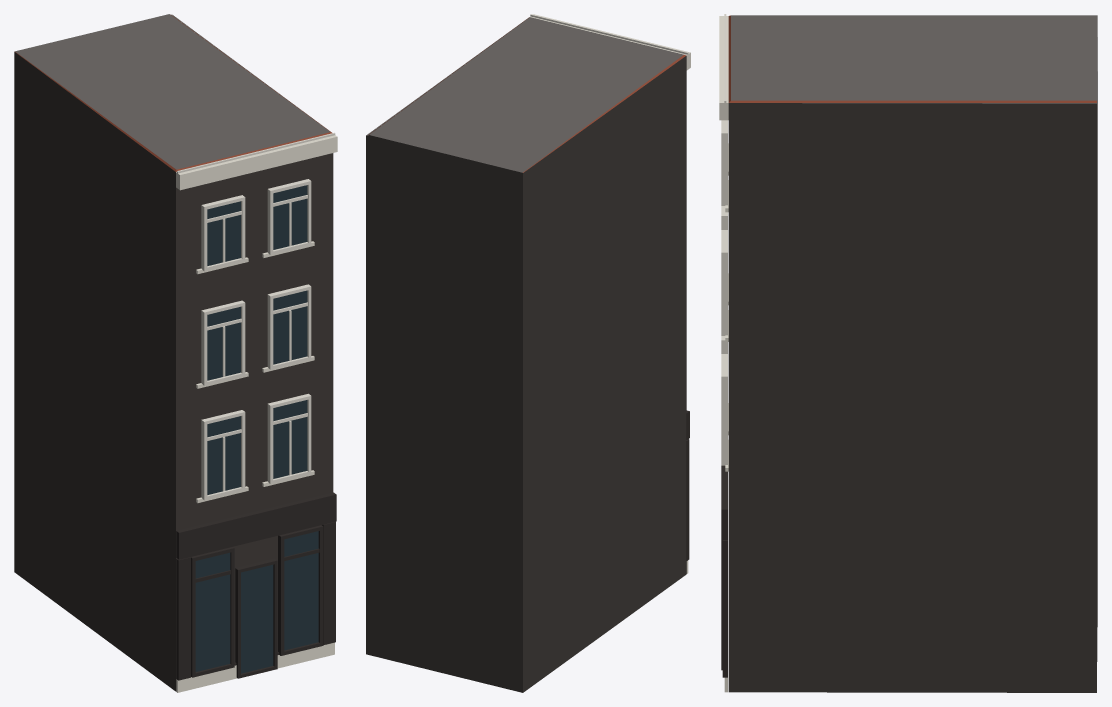
3 renders of one model, left to right at view 1: azimuth 30°, elevation 25°; view 2: azimuth 150°, elevation 25°; view 3: azimuth 270°, elevation 25°, orthographic. The views are drawn at different scales.
Visible parts, largest first — view 1: spec-0363100012177503; view 2: spec-0363100012177503; view 3: spec-0363100012177503.
Part boxes in pixels (<box>): spec-0363100012177503: <box>14,14,337,692</box>; spec-0363100012177503: <box>366,14,690,692</box>; spec-0363100012177503: <box>719,14,1097,692</box>.
Size of the model in its own units: 3.82 by 12 by 6.96.
